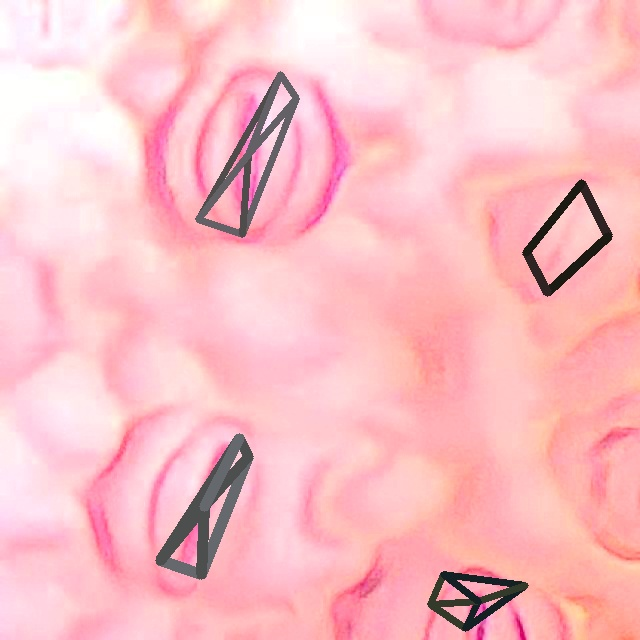close: (522, 179, 612, 296)
open: (196, 72, 299, 237), (155, 434, 252, 579), (427, 571, 528, 631)
